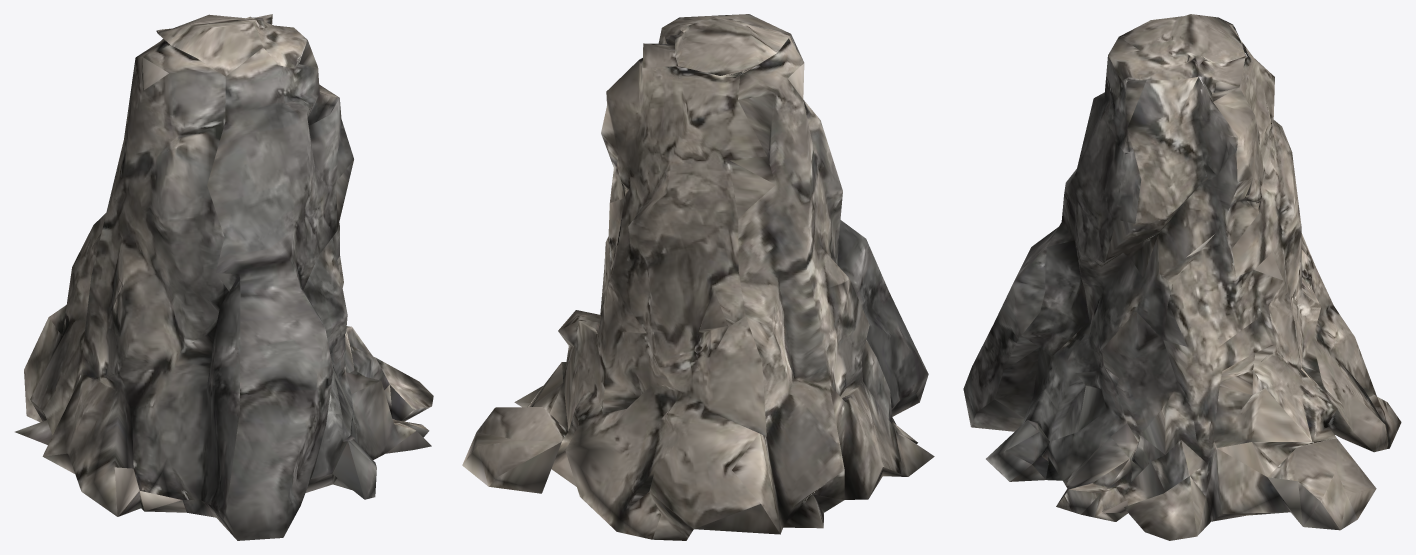
Rendered from tor_a_lod2.glb.
The picture shows the model from 3 angles, left to right: view 1: azimuth 30°, elevation 25°; view 2: azimuth 150°, elevation 25°; view 3: azimuth 270°, elevation 25°; orthographic projection. The views are drawn at different scales.
Visible parts, largest first — view 1: tor_a_lod2; view 2: tor_a_lod2; view 3: tor_a_lod2.
Boxes of the visible parts, x1,y1,x2,y2 form: tor_a_lod2: (15,14,433,540); tor_a_lod2: (462,14,934,540); tor_a_lod2: (963,14,1401,540).
Bounding box in the file's own units: 21.33 × 24.01 × 22.47.
1 material, 1 textured.
